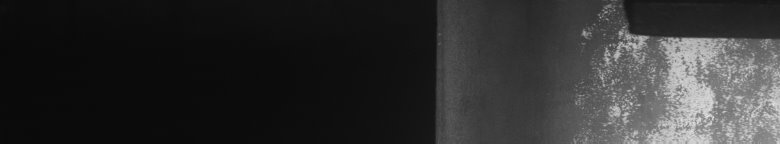kb: (576, 4, 776, 123)
